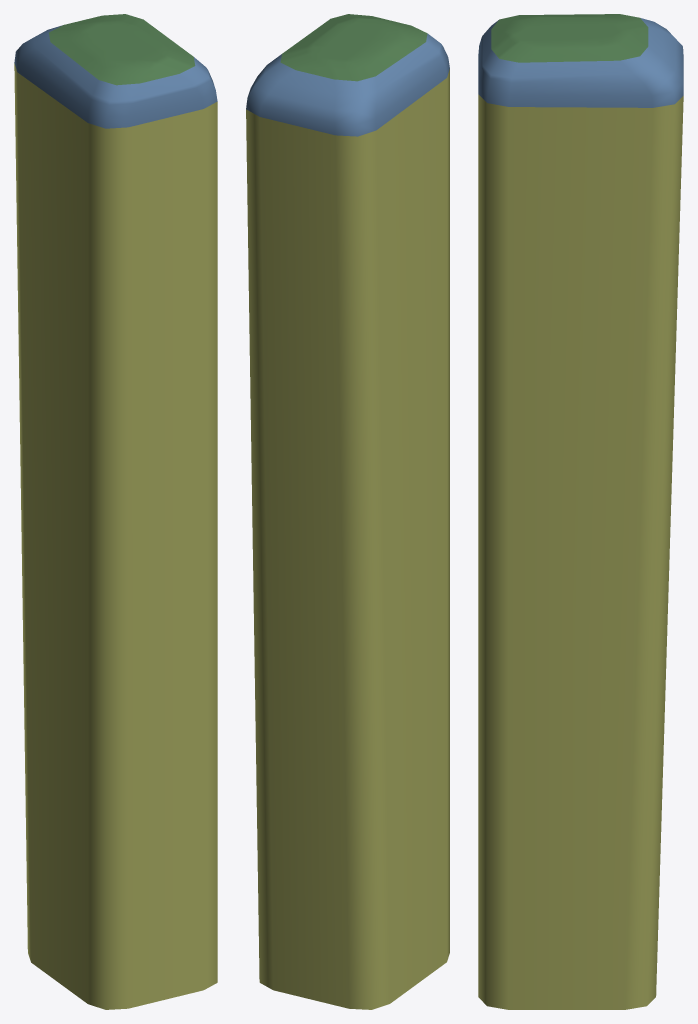
File: Segunda_PLat.fbx
3 views of the same model, side by side, from view 1: azimuth 30°, elevation 25°; view 2: azimuth 150°, elevation 25°; view 3: azimuth 270°, elevation 25° (orthographic). The views are drawn at different scales.
Parts seen in each view (by area): view 1: Seguna_PLat, Wall2, Ground2; view 2: Seguna_PLat, Wall2, Ground2; view 3: Seguna_PLat, Wall2, Ground2.
Part boxes in pixels (x1,y1,x2,y2): Seguna_PLat: [14, 63, 217, 1009]; Wall2: [14, 25, 217, 128]; Ground2: [49, 14, 195, 85]; Seguna_PLat: [246, 69, 449, 1009]; Wall2: [246, 33, 449, 136]; Ground2: [280, 14, 427, 81]; Seguna_PLat: [478, 94, 683, 1009]; Wall2: [478, 18, 683, 107]; Ground2: [491, 14, 648, 62].
Size of the model in its own units: 2075 by 14458 by 2842.
